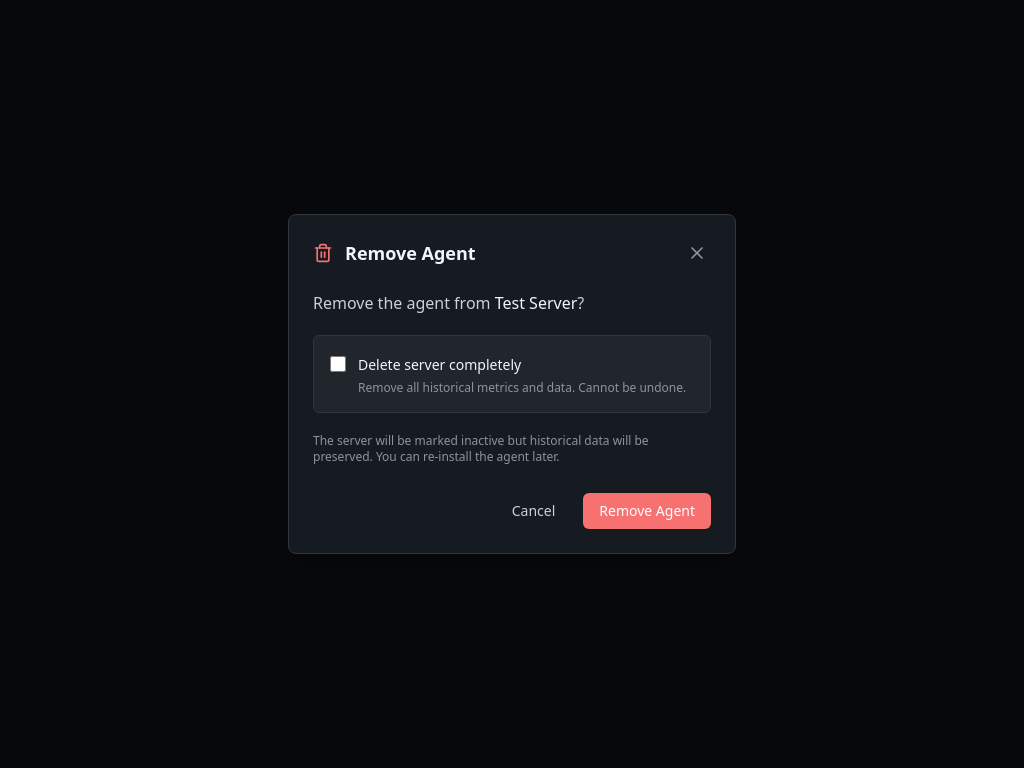
Test: AgentRemoveModal › removes agent without delete flag
Click the button with test id "confirm-remove-button": (647, 511) [583,493,711,529]
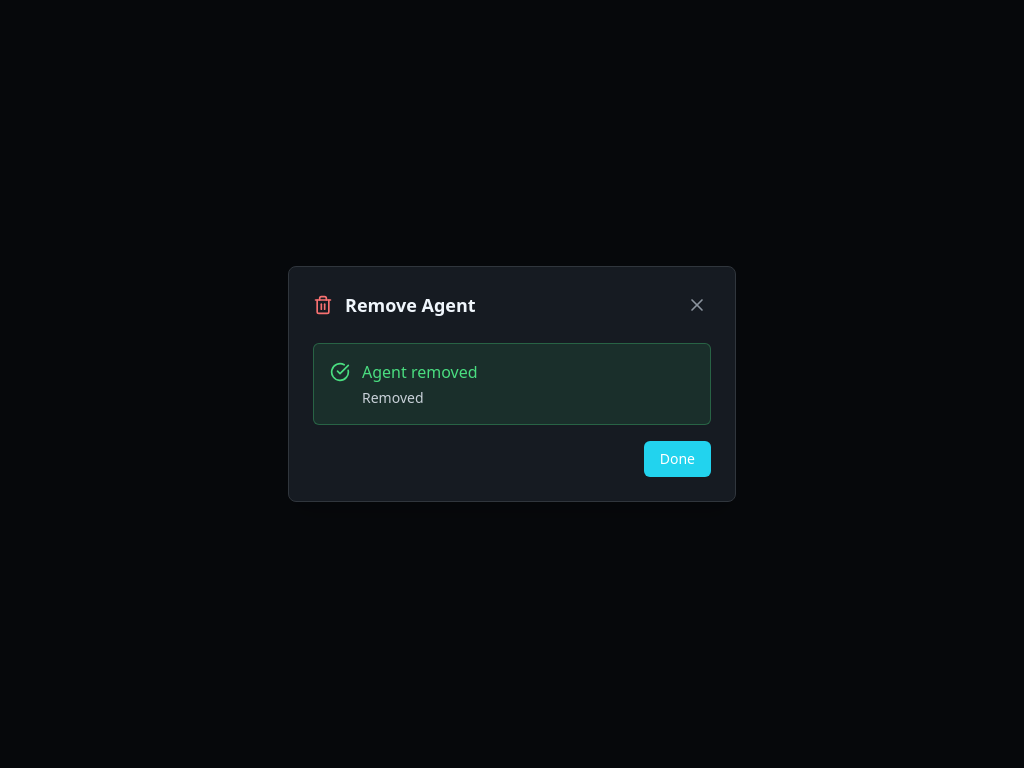
Expected: the text "Agent removed" is shown, [362,360,478,384]
